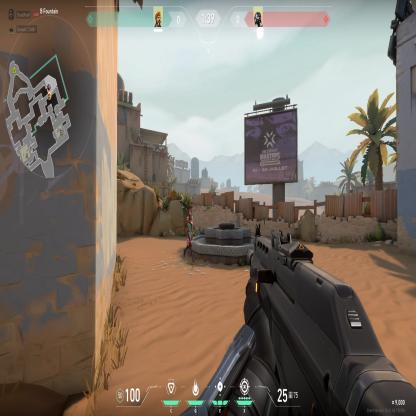enemy: (183, 205, 195, 265)
